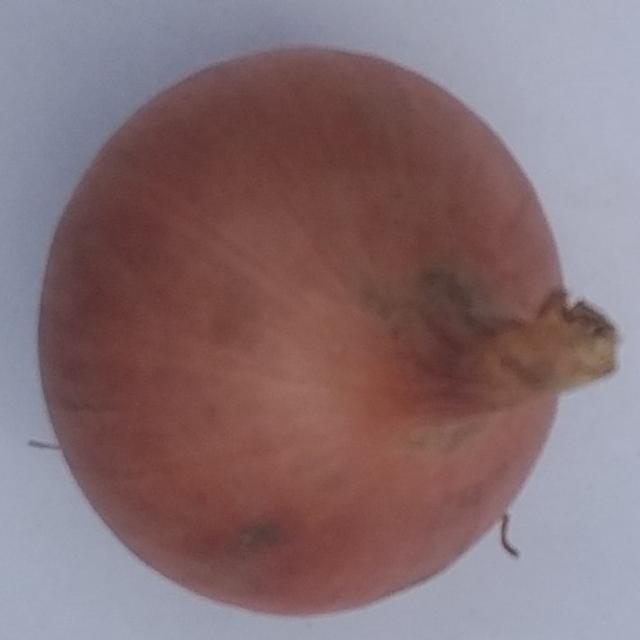onion: (36, 45, 625, 619)
